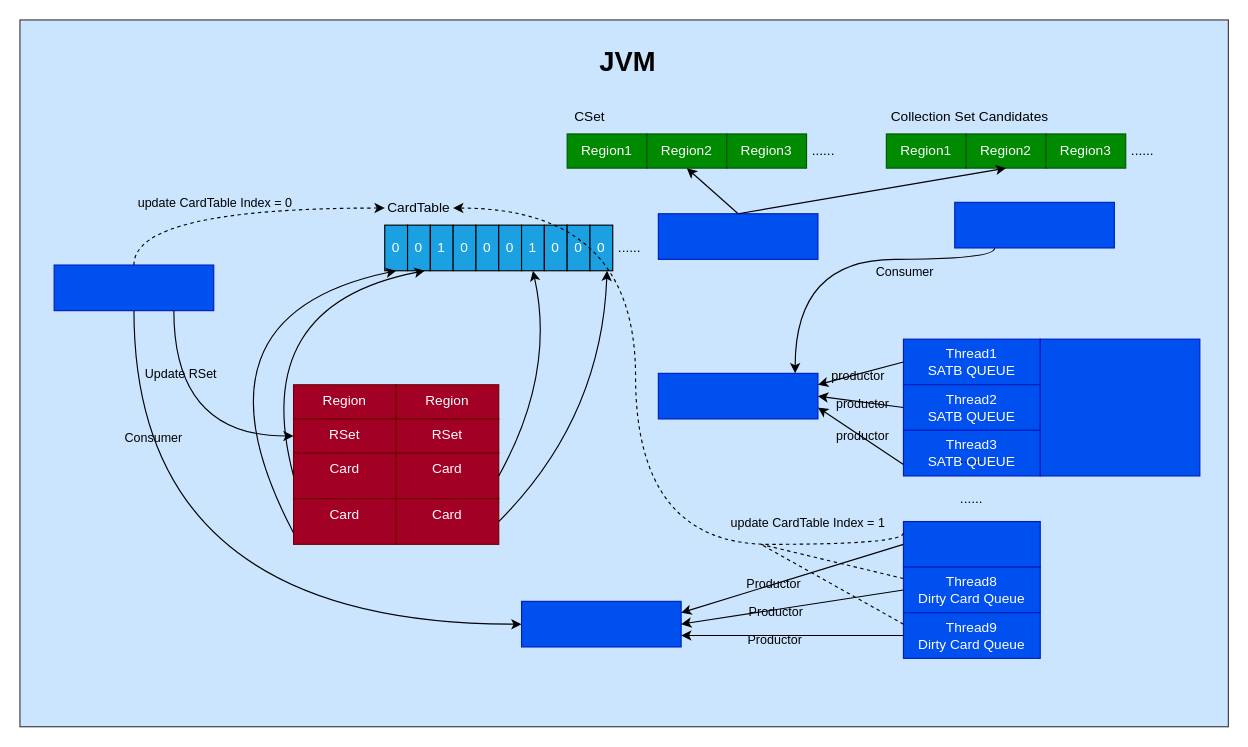
Some shapes in this 1248 by 747 pixel diagram are drawn without their labels. Here are the shapes that lost their labels. From the top down, the centre of each, then its label:
the point at 737,236: Clean && Evacuation
the point at 1034,224: Remark (GC Thread)
the point at 133,287: Refline(Thead)
the point at 737,395: Gloable SATB Queue
the point at 1119,407: Concurrent Mark Running (GC Thread)
the point at 971,543: Thread7 Dirty Card Queue
the point at 600,623: Dirty Card Queue
